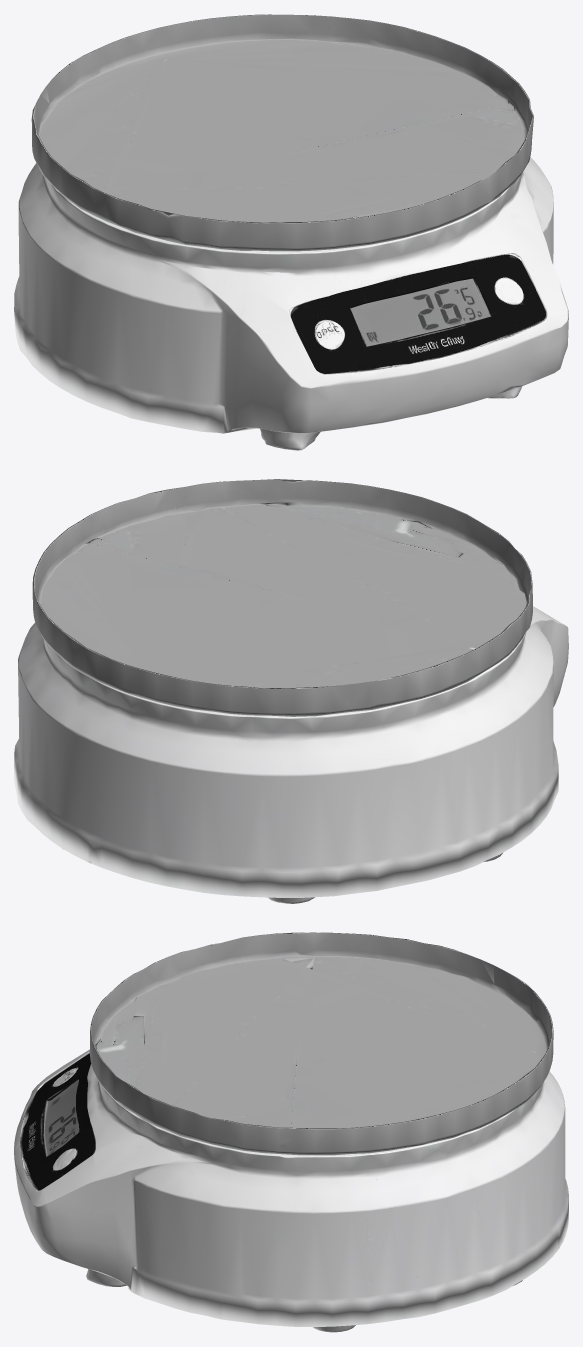
File: lab-balance.glb
3 renders of one model, top to bottom at view 1: azimuth 30°, elevation 25°; view 2: azimuth 150°, elevation 25°; view 3: azimuth 270°, elevation 25°, orthographic. The views are drawn at different scales.
Size of the model in its own units: 0.8745 by 0.3794 by 0.9512.
Materials: 1 (1 with a texture image).
